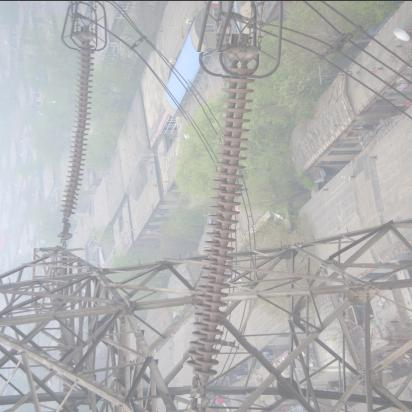insulator: (185, 53, 259, 399), (59, 39, 97, 224)
